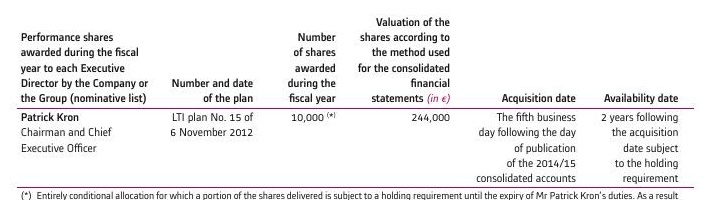table: (0, 0, 703, 200)
